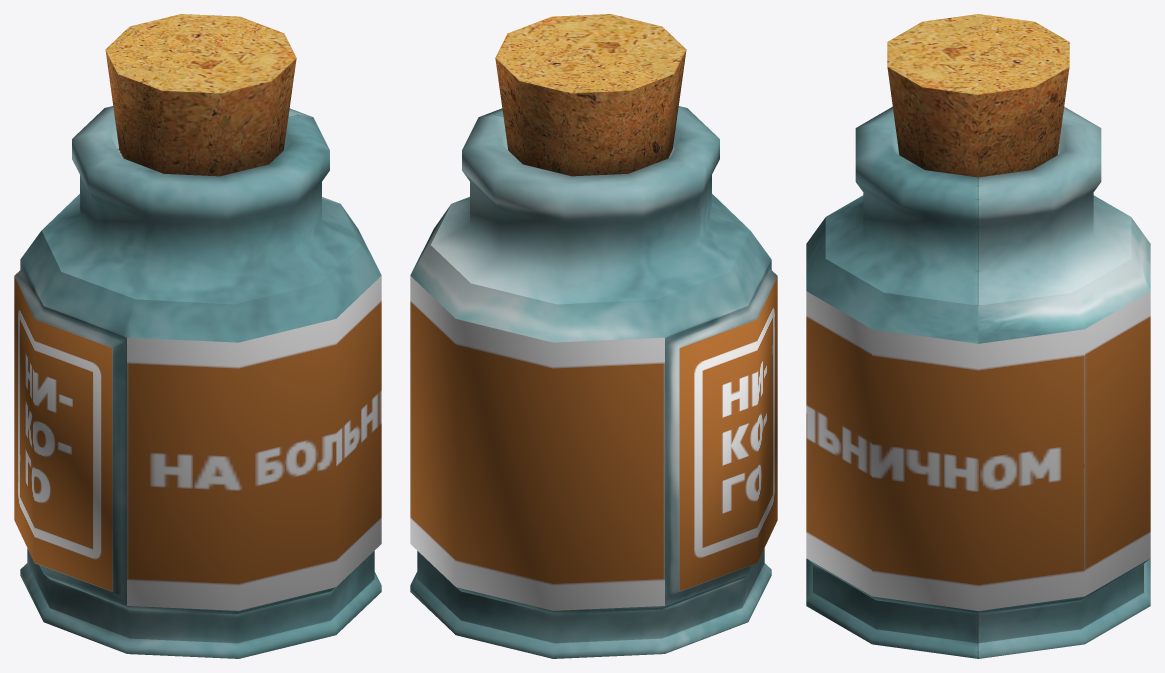
File: sick_3.fbx
3 renders of one model, left to right at view 1: azimuth 30°, elevation 25°; view 2: azimuth 150°, elevation 25°; view 3: azimuth 270°, elevation 25°, orthographic.
Visible parts, largest first — view 1: Cylinder; view 2: Cylinder; view 3: Cylinder.
Boxes of the visible parts, box(x1,y1,x2,y2) form: Cylinder: box(14, 14, 381, 658); Cylinder: box(410, 14, 777, 658); Cylinder: box(806, 14, 1150, 658).
Bounding box in the file's own units: 103 × 161 × 95.11.
Materials: 1 (1 with a texture image).
